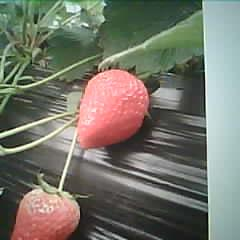straw-ripe: (77, 69, 149, 147), (12, 187, 81, 240)
